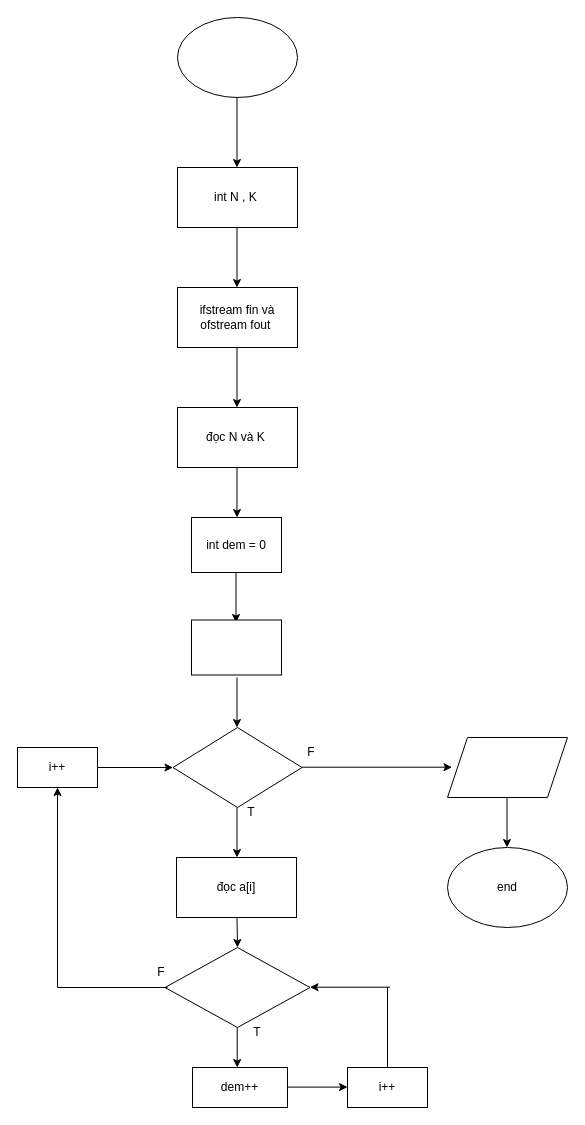
This 585x1125 diagram has some shape labels left out. Here are the shapes that lost their labels. From the top down, the centre of each, then its label:
At [237,57]: "start".
At [236,647]: "int i = 0".
At [237,767]: "i < N ?".
At [507,767]: "xuất dem ra file".
At [237,987]: "a[i] <=K?".
